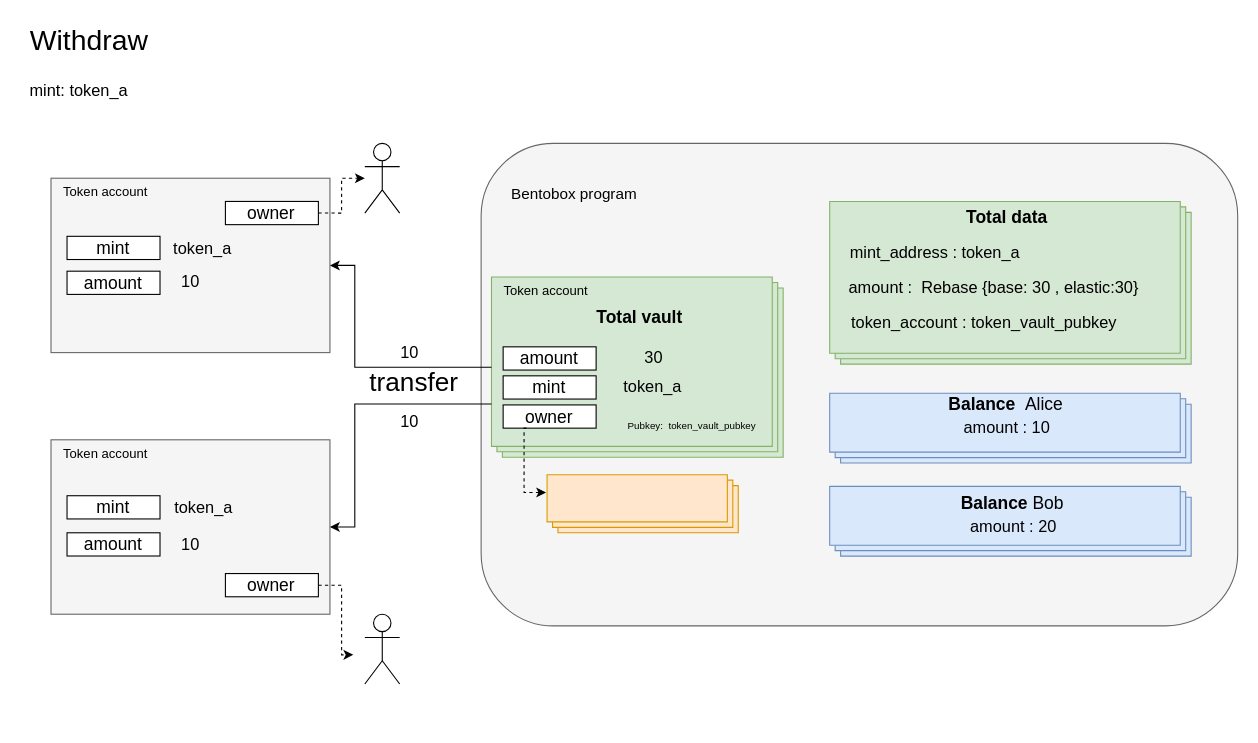
Image size: 1258x743. Some labels were removed from this diagram. The centre of each missing label's shape, as x and y in pixels:
Alice: the point at 382,177
Bentobox_authority: the point at 642,503
Bob: the point at 382,648
